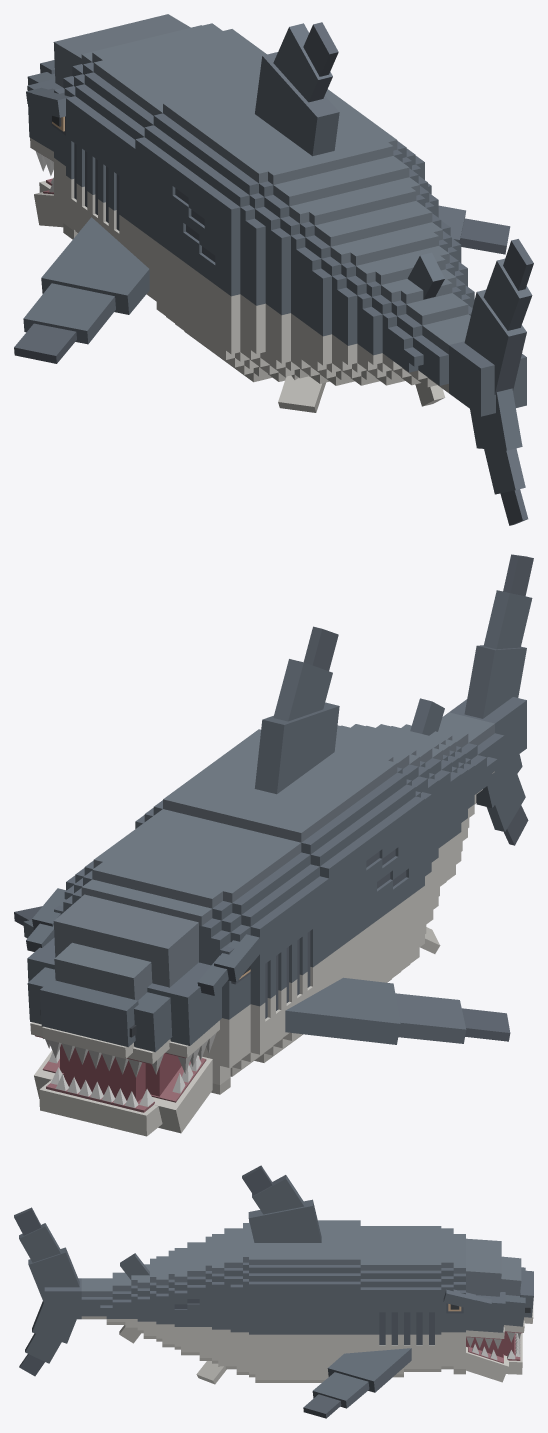
The model's file is Megalodon.glb.
3 views of the same model, one above another, from view 1: azimuth 30°, elevation 25°; view 2: azimuth 150°, elevation 25°; view 3: azimuth 270°, elevation 25° (orthographic). The views are drawn at different scales.
Visible parts, largest first — view 1: S2, S1, S3, S4, Tail, S5, Head, S6, Jaw; view 2: Head, S2, S1, Tail, Jaw, S3, S4, S5, S6; view 3: S2, S1, Head, S3, Tail, S4, S5, S6, Jaw.
Boxes of the visible parts, x1=… form: S2: x1=135, y1=22, x2=418, y2=382; S1: x1=14, y1=29, x2=510, y2=363; S3: x1=226, y1=136, x2=438, y2=412; S4: x1=291, y1=187, x2=461, y2=385; Tail: x1=449, y1=239, x2=533, y2=525; S5: x1=337, y1=246, x2=474, y2=406; Head: x1=26, y1=14, x2=222, y2=239; S6: x1=393, y1=297, x2=472, y2=392; Jaw: x1=34, y1=177, x2=63, y2=227; Head: x1=26, y1=862, x2=261, y2=1101; S2: x1=135, y1=626, x2=419, y2=1035; S1: x1=14, y1=809, x2=510, y2=1076; Tail: x1=449, y1=554, x2=533, y2=845; Jaw: x1=34, y1=1048, x2=212, y2=1136; S3: x1=254, y1=729, x2=440, y2=953; S4: x1=336, y1=724, x2=461, y2=896; S5: x1=366, y1=698, x2=476, y2=851; S6: x1=438, y1=712, x2=504, y2=794; S2: x1=242, y1=1165, x2=360, y2=1382; S1: x1=303, y1=1226, x2=441, y2=1418; Head: x1=441, y1=1228, x2=533, y2=1374; S3: x1=196, y1=1221, x2=255, y2=1384; Tail: x1=14, y1=1207, x2=81, y2=1376; S4: x1=168, y1=1236, x2=211, y2=1360; S5: x1=119, y1=1253, x2=168, y2=1347; S6: x1=81, y1=1272, x2=125, y2=1324; Jaw: x1=466, y1=1333, x2=522, y2=1382.
Bounding box in the file's own units: 26.89 × 18.62 × 41.95.
